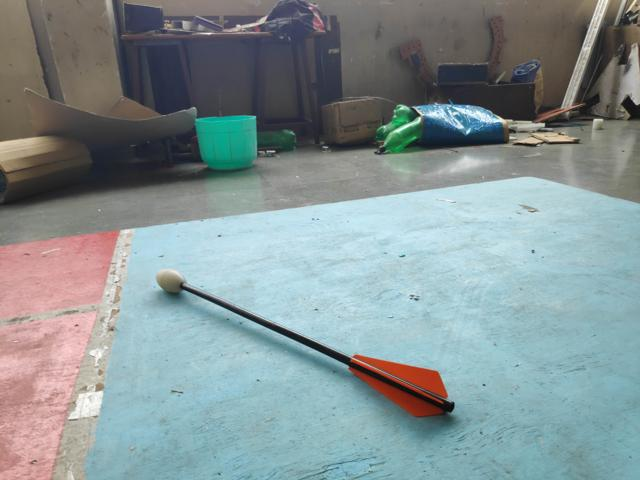Head: (153, 266, 190, 295)
Tail: (343, 350, 459, 422)
